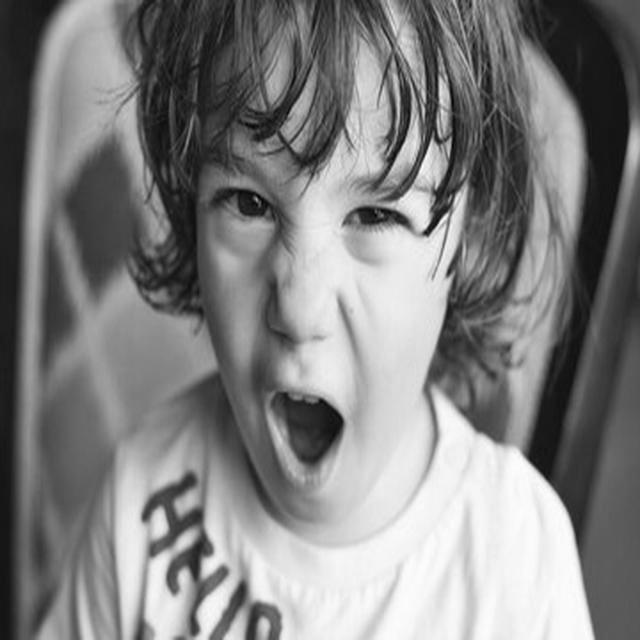Angry: (195, 17, 468, 523)
